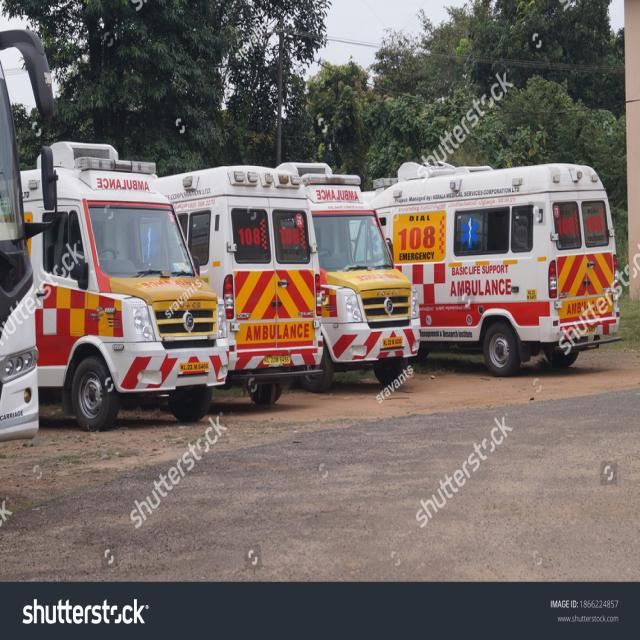ambulance: (20, 140, 230, 428), (373, 163, 619, 380), (157, 163, 326, 410), (284, 164, 418, 366)
